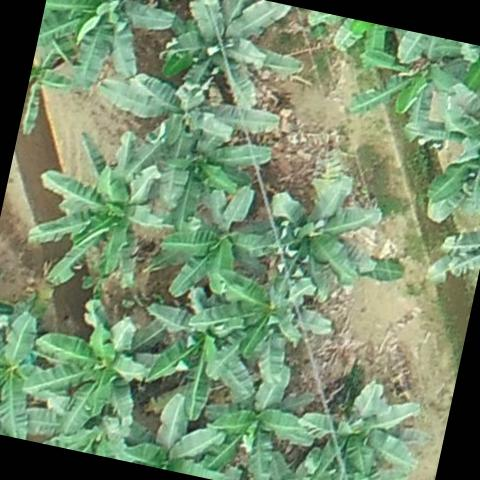Banana-plant: (221, 151, 387, 336), (19, 117, 176, 305), (15, 287, 171, 448), (132, 166, 286, 324), (123, 102, 281, 246), (128, 272, 270, 431), (151, 0, 314, 126), (118, 56, 286, 168), (184, 348, 325, 480), (207, 260, 338, 402), (285, 362, 438, 480), (343, 33, 478, 146), (30, 0, 184, 99), (116, 380, 239, 480), (0, 298, 80, 444)
